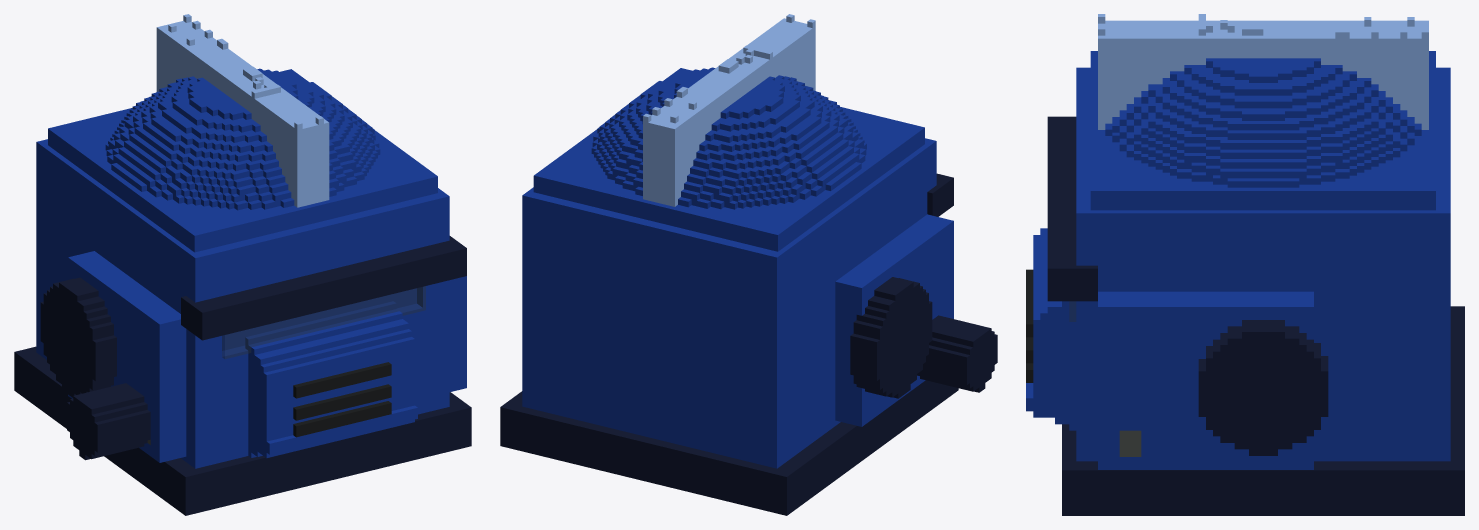
The model's file is helmet_heavy.glb.
The picture shows the model from 3 angles, left to right: view 1: azimuth 30°, elevation 25°; view 2: azimuth 150°, elevation 25°; view 3: azimuth 270°, elevation 25°; orthographic projection. The views are drawn at different scales.
Visible parts, largest first — view 1: helmet_heavy:compound; view 2: helmet_heavy:compound; view 3: helmet_heavy:compound.
Part boxes in pixels (left/top/right/bottom): helmet_heavy:compound: left=14, top=14, right=471, bottom=515; helmet_heavy:compound: left=500, top=14, right=997, bottom=515; helmet_heavy:compound: left=1026, top=14, right=1464, bottom=515.
Size of the model in its own units: 0.432 by 0.378 by 0.366.
